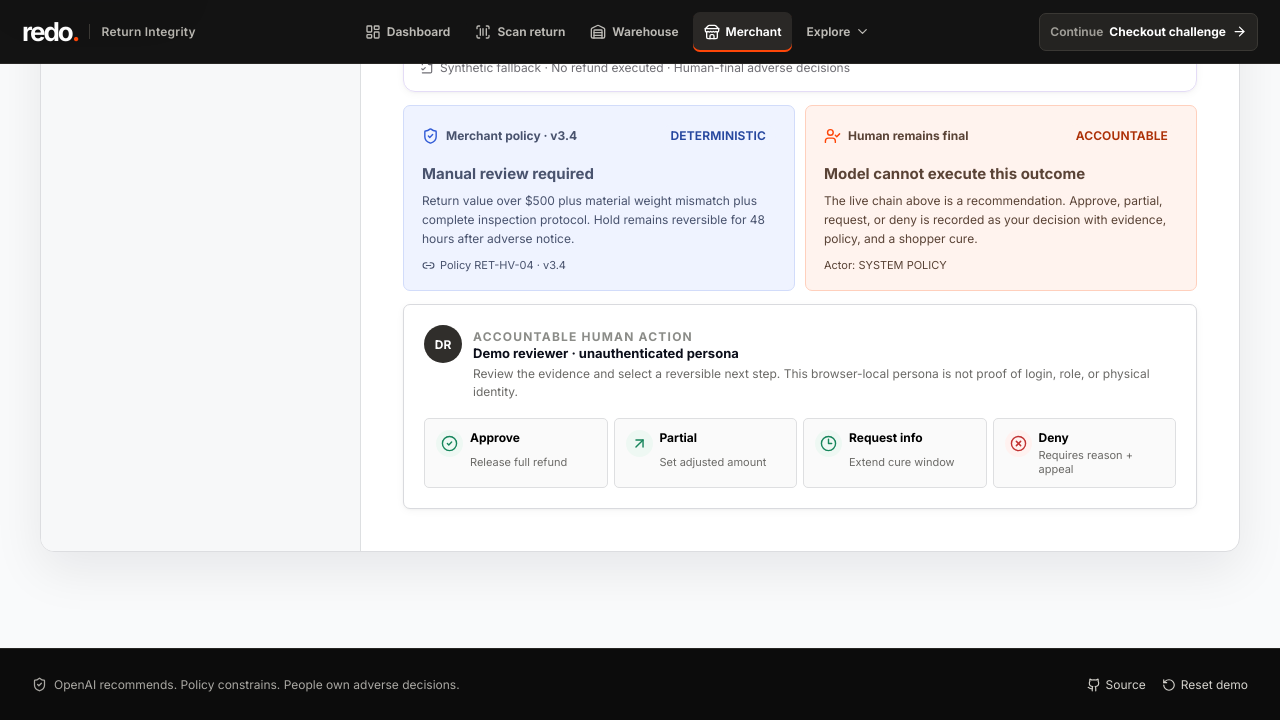
Test: interview demo › requires a reason and certification before recording a human denial
(page scrolled)
Click the button "Deny Requires reason + appeal" at (1084, 453), box top-left (992, 418), bottom-right (1176, 488)
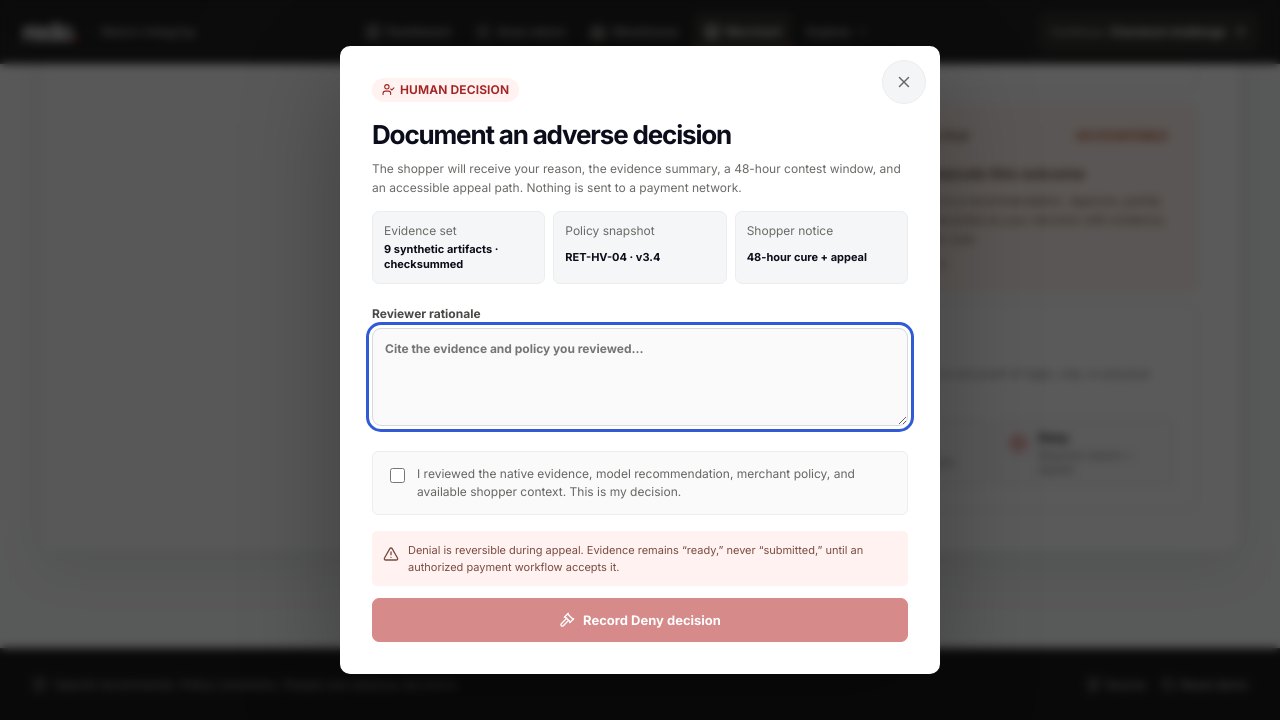
Expected: the button "Record Deny decision" is disabled, top-left (372, 598), bottom-right (908, 642)
Type "Inspection sequence is complete and no expected item is visible." into the text box labelled "Reviewer rationale" at (640, 377), box top-left (372, 328), bottom-right (908, 426)
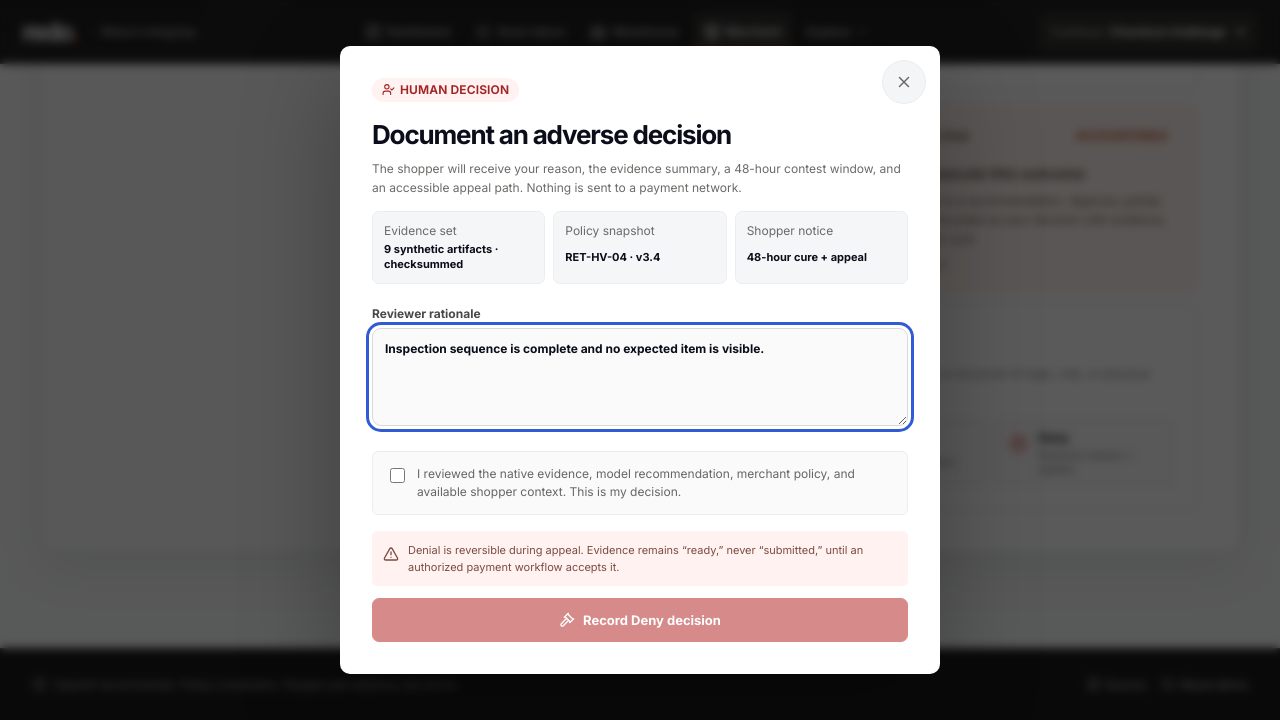
Click the checkbox labelled "I reviewed the native evidence" at (398, 476), box top-left (390, 468), bottom-right (405, 483)
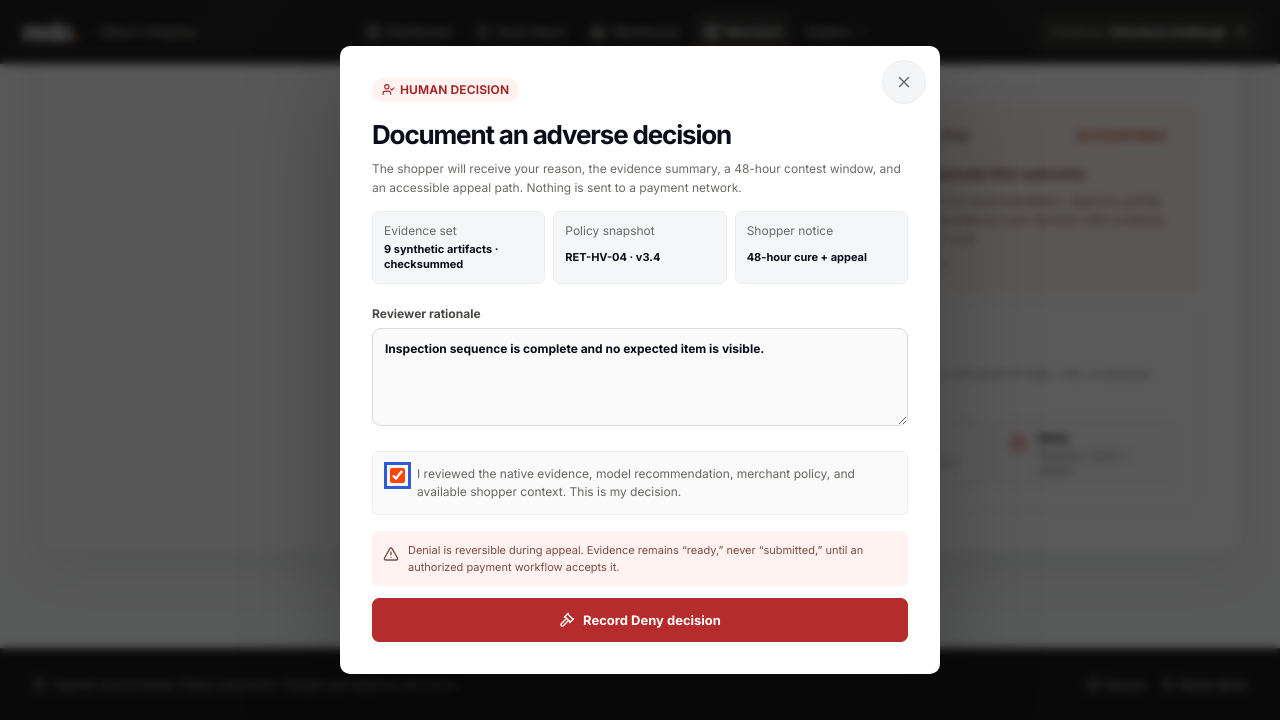
Expected: the button "Record Deny decision" is enabled, top-left (372, 598), bottom-right (908, 642)
